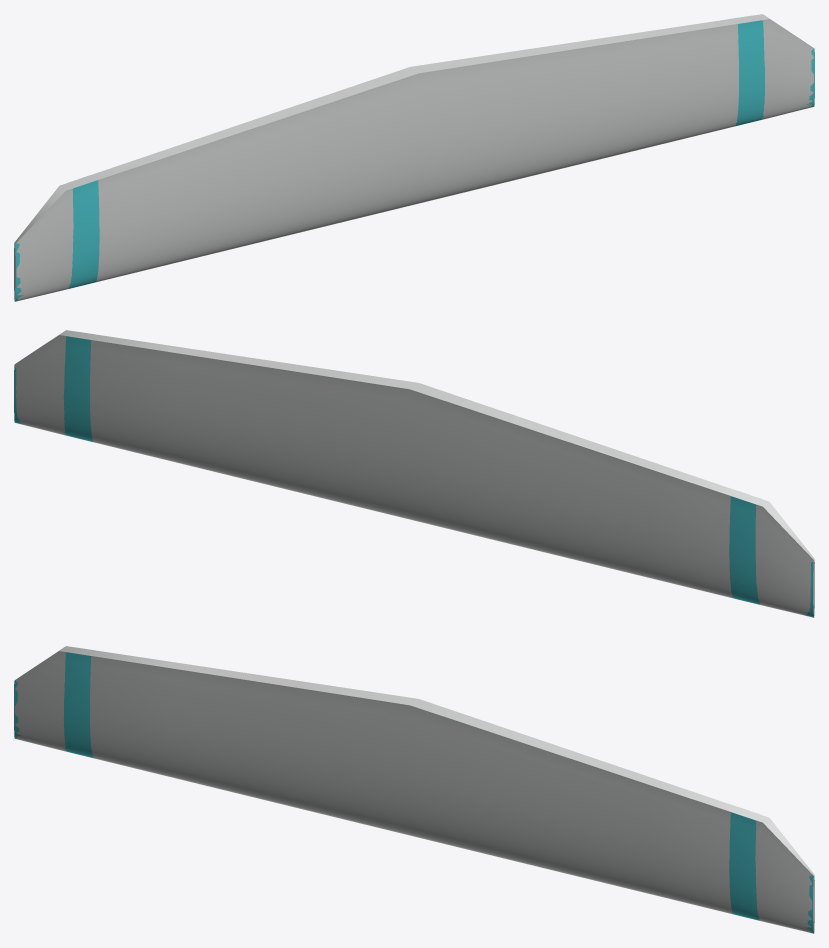
File: estab_h.glb
The picture shows the model from 3 angles, top to bottom: view 1: azimuth 30°, elevation 25°; view 2: azimuth 150°, elevation 25°; view 3: azimuth 330°, elevation 25°; orthographic projection.
Visible parts, largest first — view 1: EstabilizadorH; view 2: EstabilizadorH; view 3: EstabilizadorH.
Part boxes in pixels (x1,y1,x2,y2): EstabilizadorH: (14, 14, 814, 301); EstabilizadorH: (14, 330, 814, 617); EstabilizadorH: (14, 646, 814, 933).
Bounding box in the file's own units: 0.34 × 0.0546 × 0.0088.
